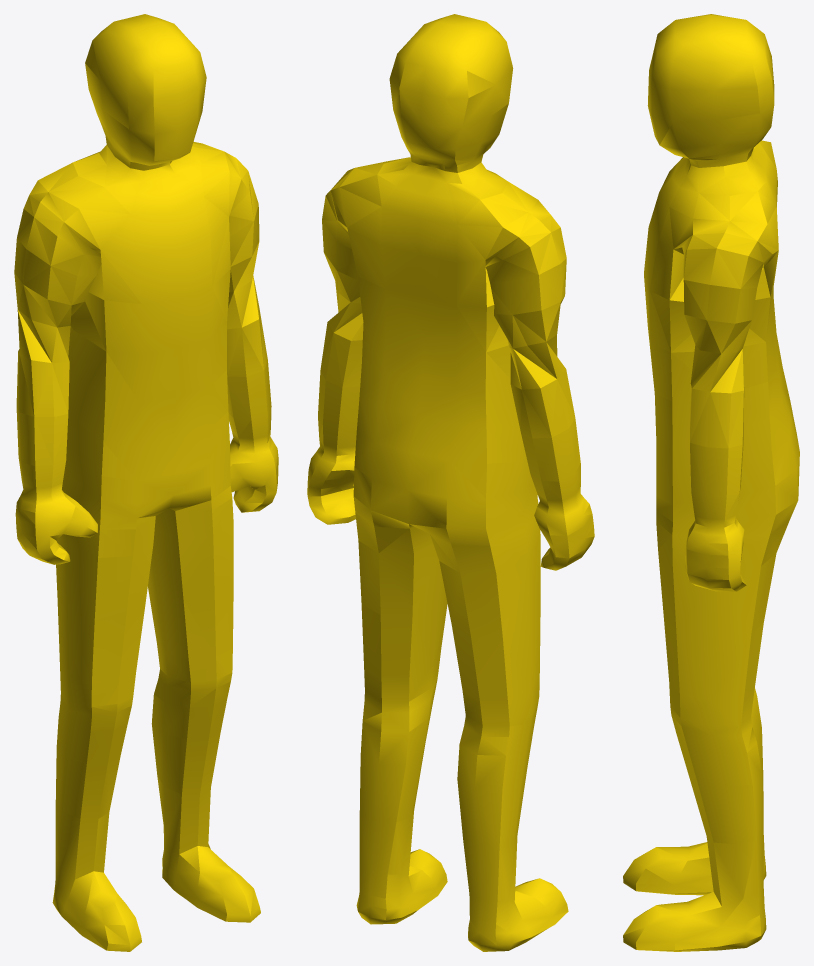
File: IdleState.fbx
3 renders of one model, left to right at view 1: azimuth 30°, elevation 25°; view 2: azimuth 150°, elevation 25°; view 3: azimuth 270°, elevation 25°, orthographic.
Parts seen in each view (by area): view 1: Human; view 2: Human; view 3: Human.
Boxes of the visible parts, <box> form: Human: <box>14,14,278,951</box>; Human: <box>307,14,594,951</box>; Human: <box>623,14,799,951</box>.
Size of the model in its own units: 46.47 by 150 by 26.89.
